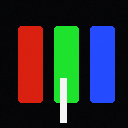4 line_v: (60, 78, 66, 122)
